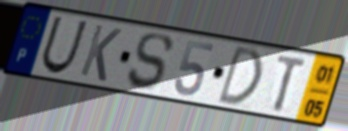5: (172, 38, 216, 98)
D: (214, 43, 264, 107)
K: (77, 22, 124, 84)
S: (125, 32, 176, 92)
T: (272, 53, 310, 114)
U: (39, 14, 90, 76)
